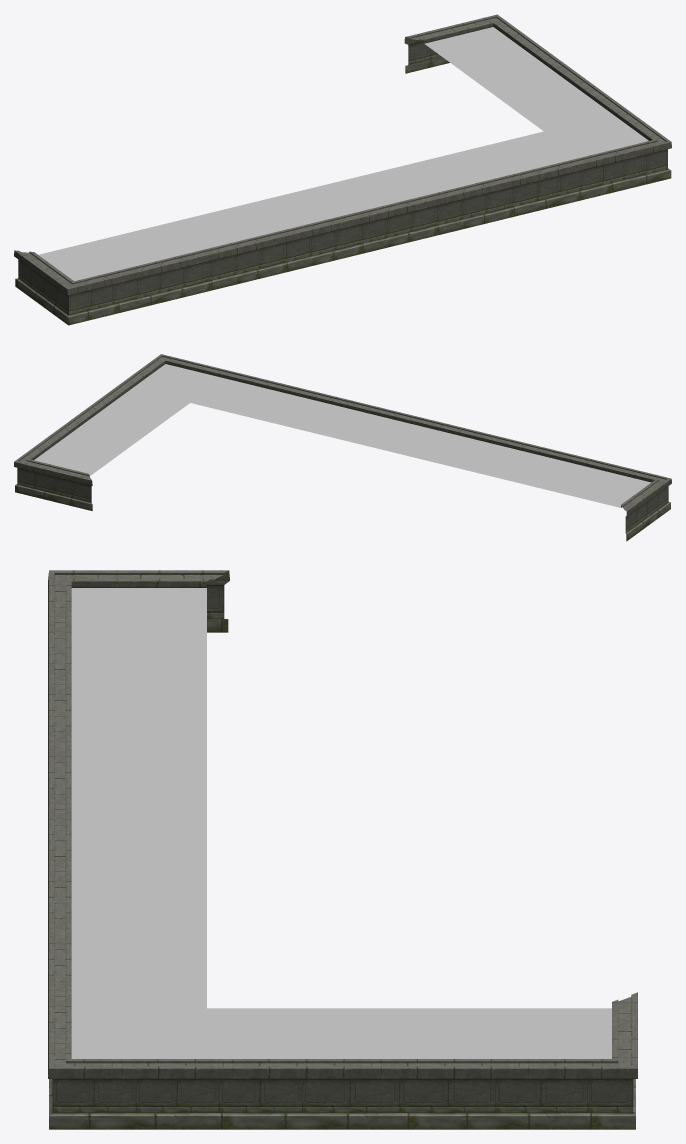
The model's file is JiaYeSi_HuaTanZu_4.FBX.
3 views of the same model, one above another, from view 1: azimuth 30°, elevation 25°; view 2: azimuth 150°, elevation 25°; view 3: azimuth 270°, elevation 25° (orthographic). The views are drawn at different scales.
Visible parts, largest first — view 1: JiaYeSi_HuaTanZu_4a, JiaYeSi_HuaTanZu_4b; view 2: JiaYeSi_HuaTanZu_4b, JiaYeSi_HuaTanZu_4a; view 3: JiaYeSi_HuaTanZu_4b, JiaYeSi_HuaTanZu_4a.
Part boxes in pixels (x1,y1,x2,y2): JiaYeSi_HuaTanZu_4a: [14, 14, 671, 325]; JiaYeSi_HuaTanZu_4b: [38, 27, 648, 281]; JiaYeSi_HuaTanZu_4b: [34, 364, 650, 507]; JiaYeSi_HuaTanZu_4a: [14, 354, 671, 541]; JiaYeSi_HuaTanZu_4b: [71, 588, 611, 1058]; JiaYeSi_HuaTanZu_4a: [48, 570, 637, 1129].
Bounding box in the file's own units: 3343 × 192 × 1672.
